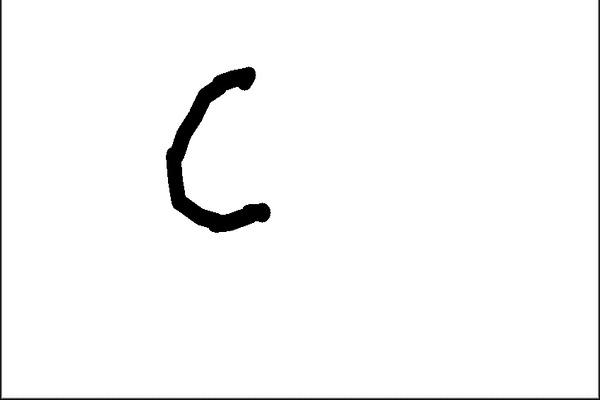C: (160, 57, 283, 236)
